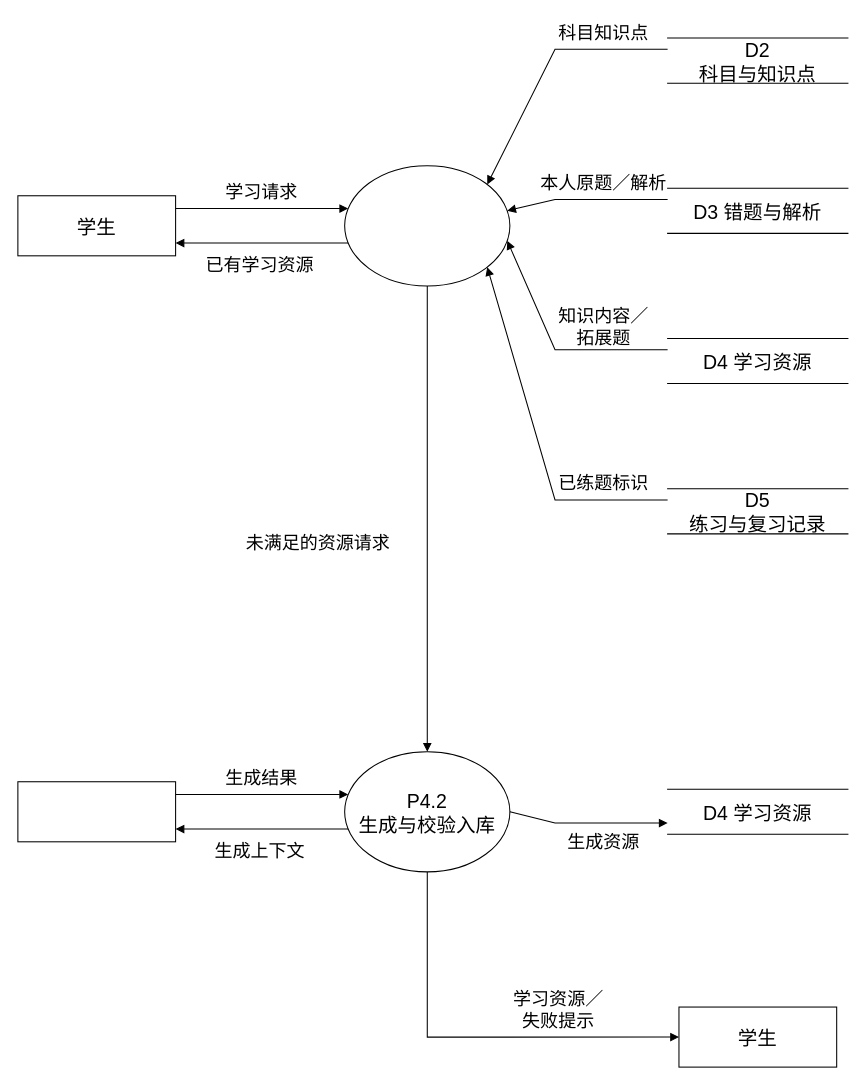
The diagram is 865 pixels wide and 1085 high, and some of its shapes have lost their labels. Here are the shapes that lost their labels. From the top down, the centre of each, then its label:
the point at 427,225: P4.1 查询可用资源
the point at 96,811: AI模型
